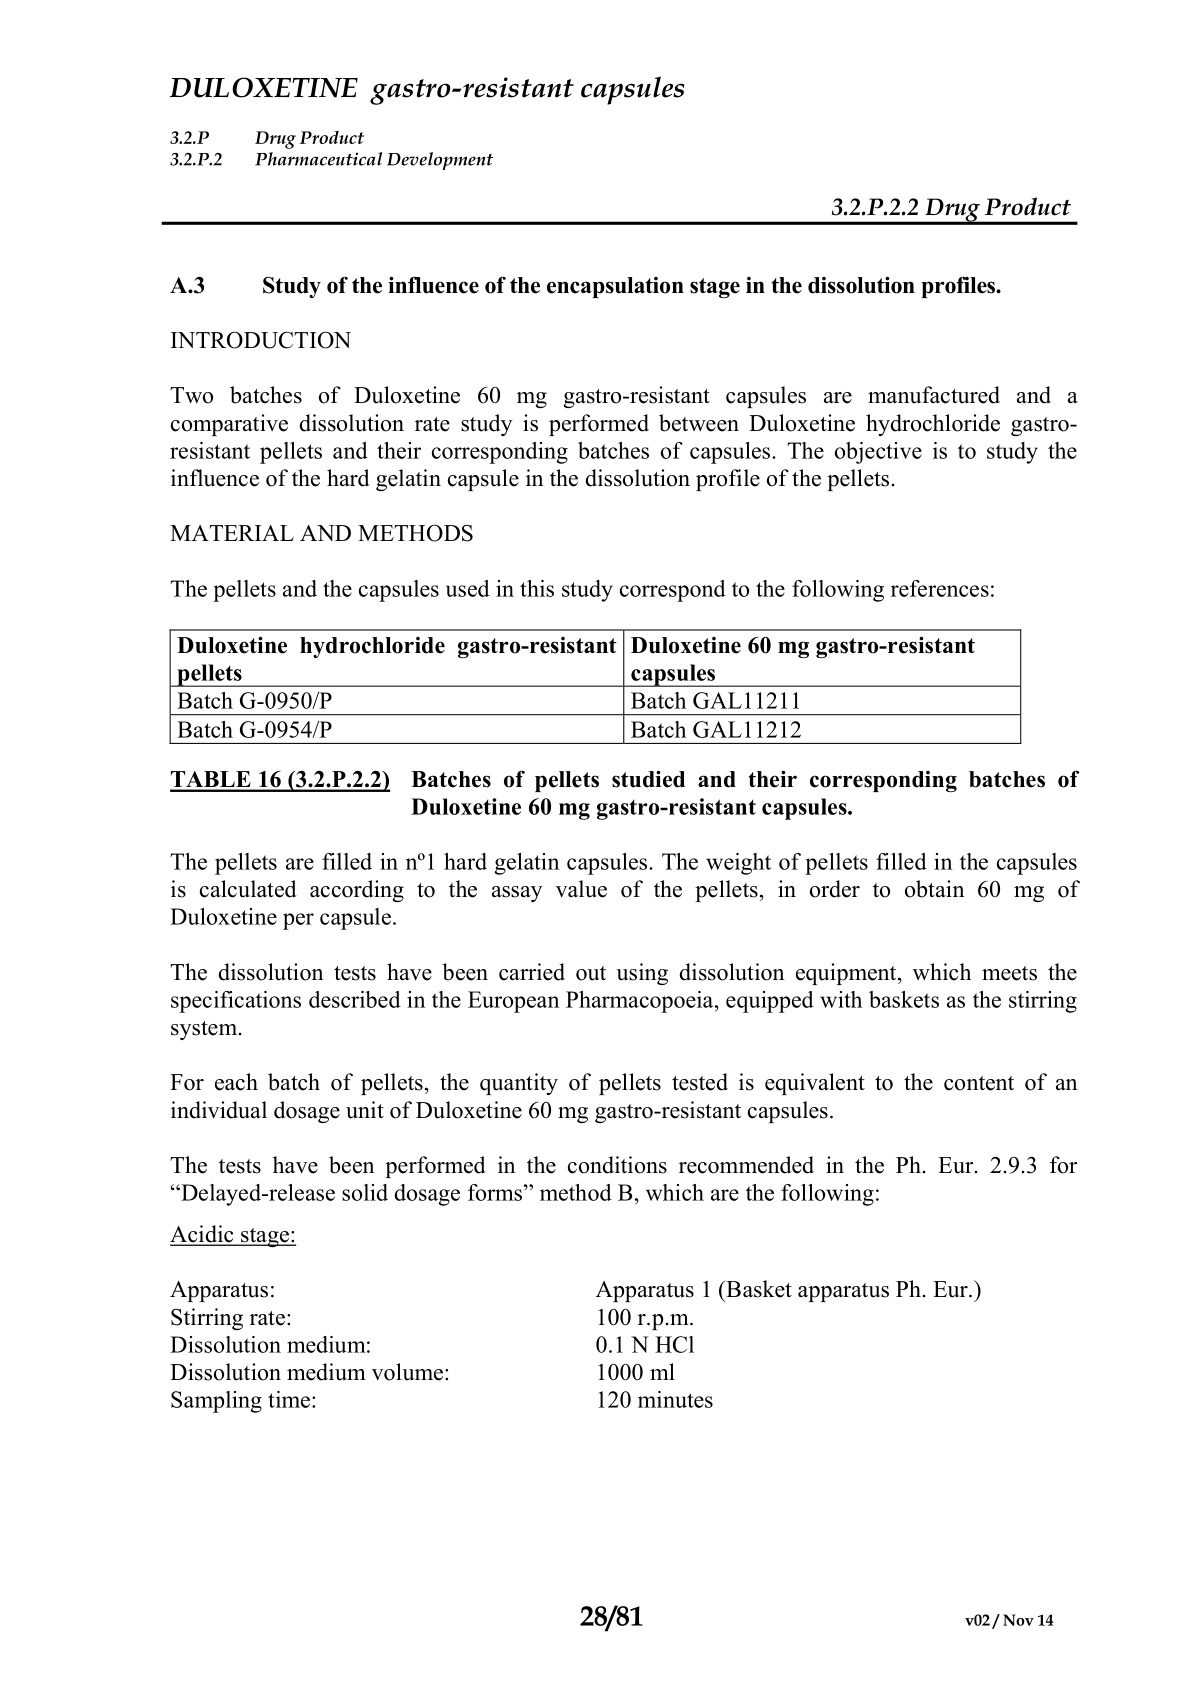full_lined: (168, 627, 1022, 745)
nolines: (162, 1273, 986, 1419)
